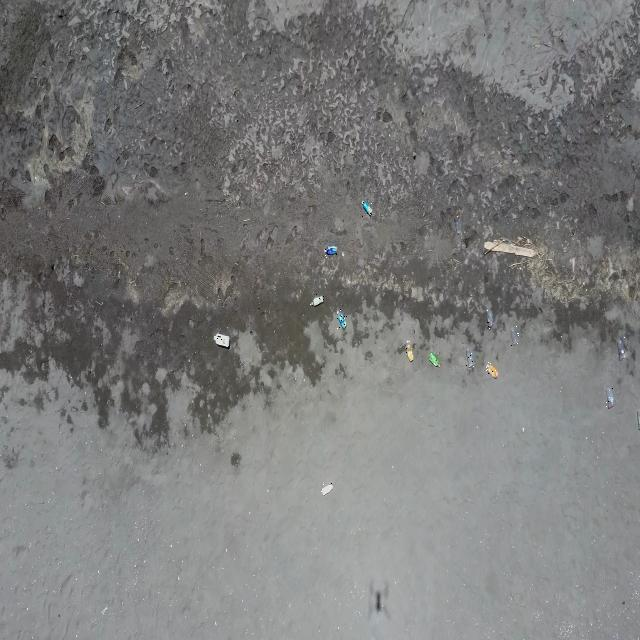plastic-bottle: (212, 333, 230, 351), (429, 350, 441, 370), (337, 309, 347, 331), (486, 362, 498, 380), (310, 294, 325, 308), (321, 482, 334, 498), (362, 199, 373, 217), (324, 244, 337, 258), (406, 340, 414, 362)
takeaway-cup: (617, 337, 627, 361), (606, 387, 616, 409), (486, 309, 495, 330), (510, 326, 519, 347), (466, 349, 474, 368), (454, 216, 461, 236)
